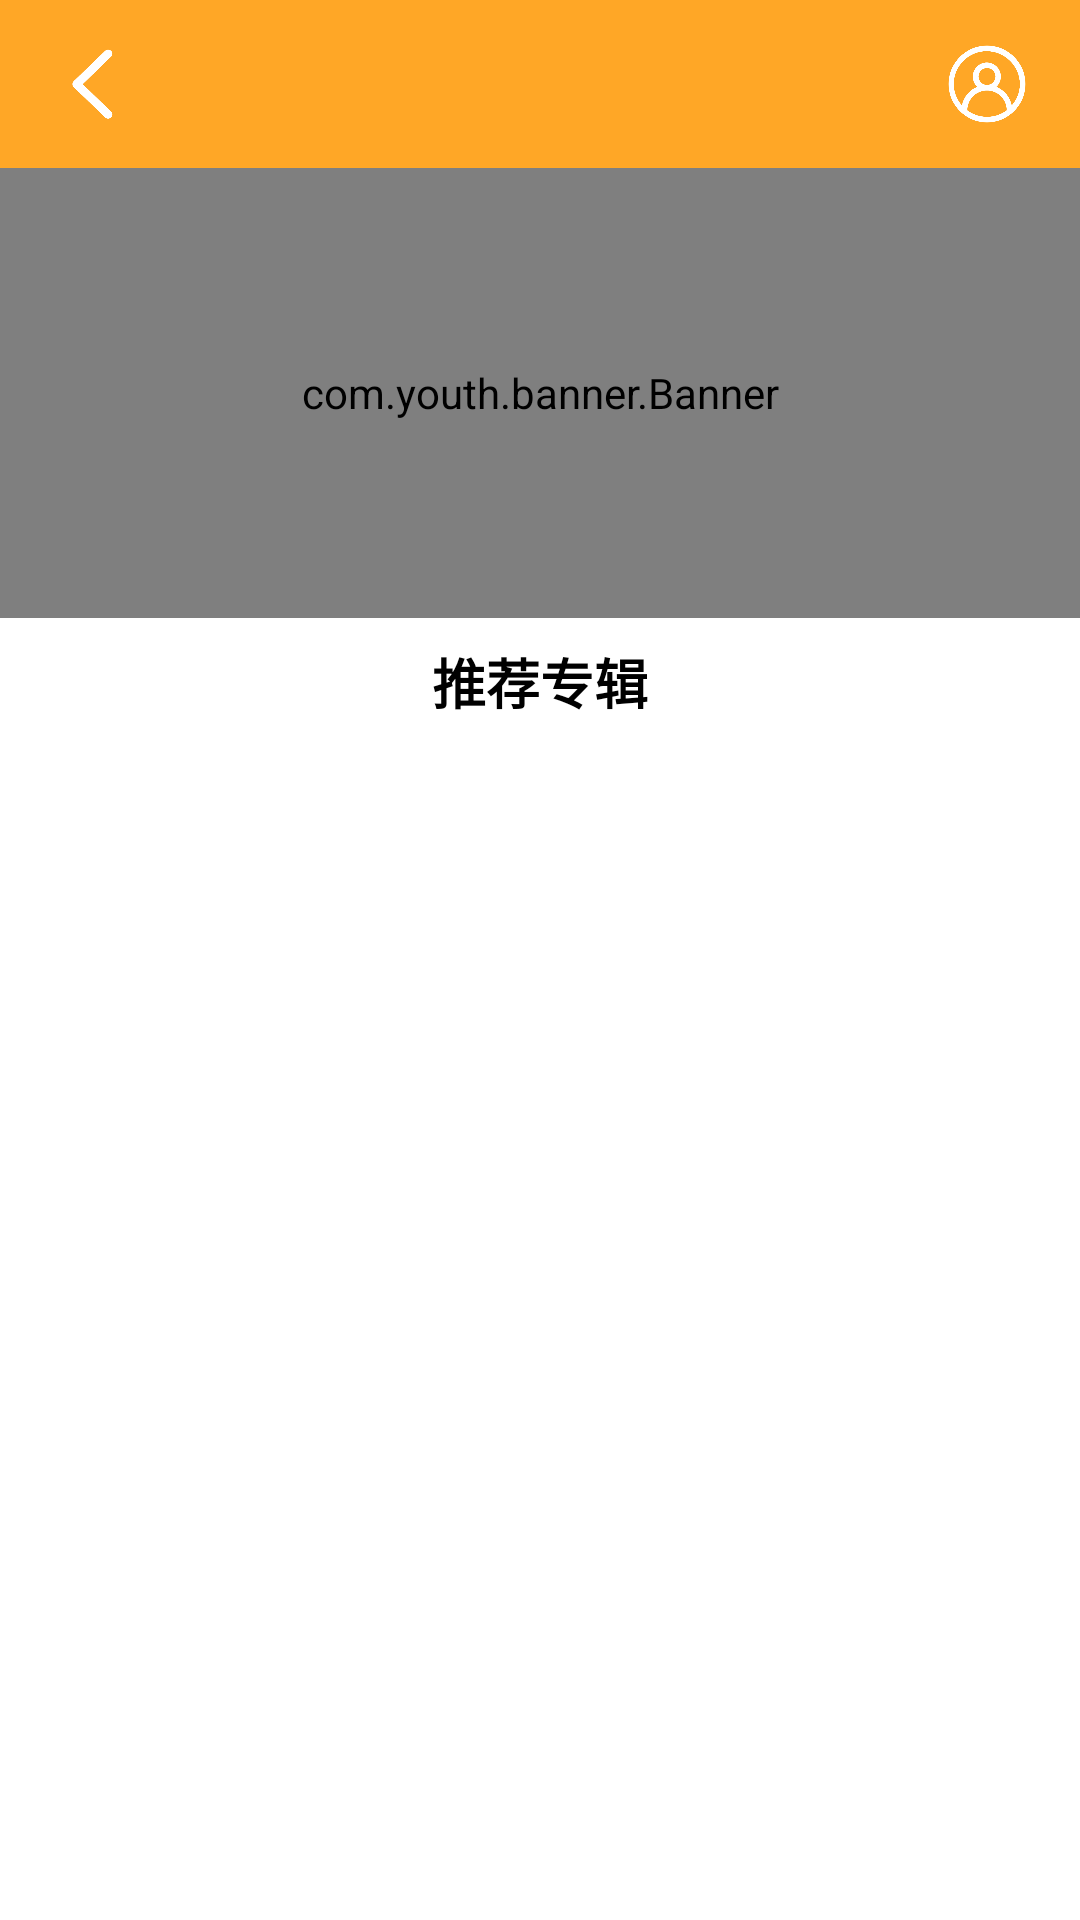

Screen size 1080 x 1920. Icon name, then its box in pixels as detection(x1, y1, x2, y2):
back: detection(72, 50, 113, 119)
user: detection(948, 45, 1026, 123)
